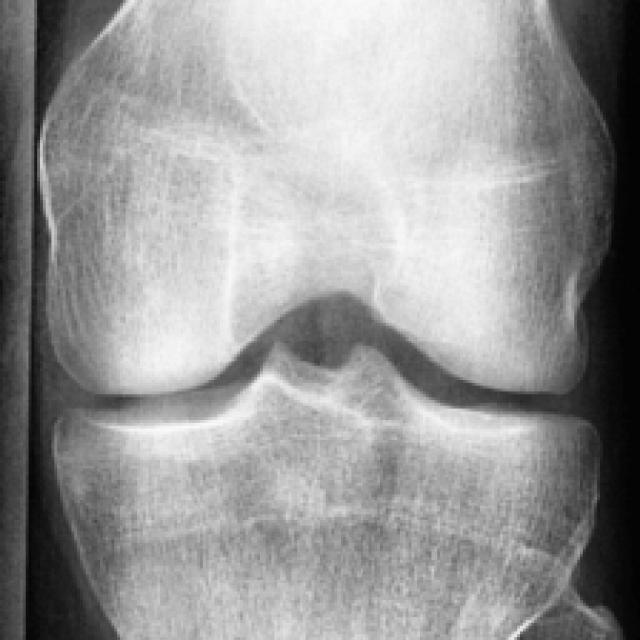femur: (40, 1, 609, 395)
tibia: (57, 343, 591, 637)
